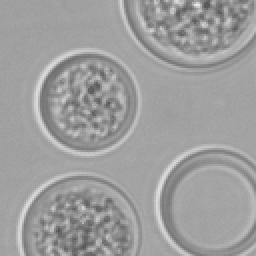picoshell: (32, 48, 140, 156), (154, 144, 254, 254), (16, 172, 140, 254), (118, 0, 254, 72)
